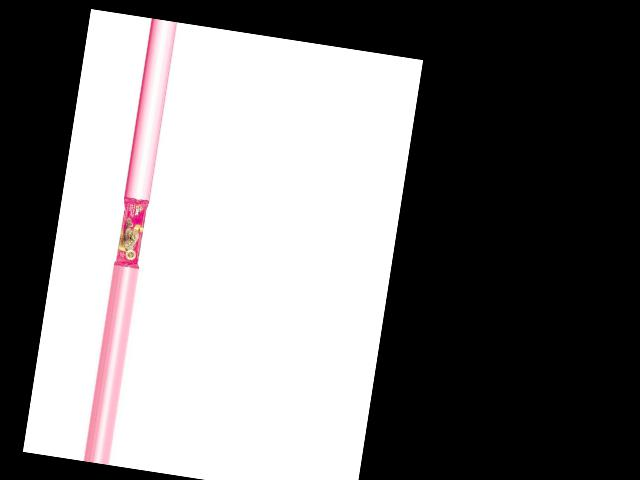chocolate: (111, 195, 148, 267)
